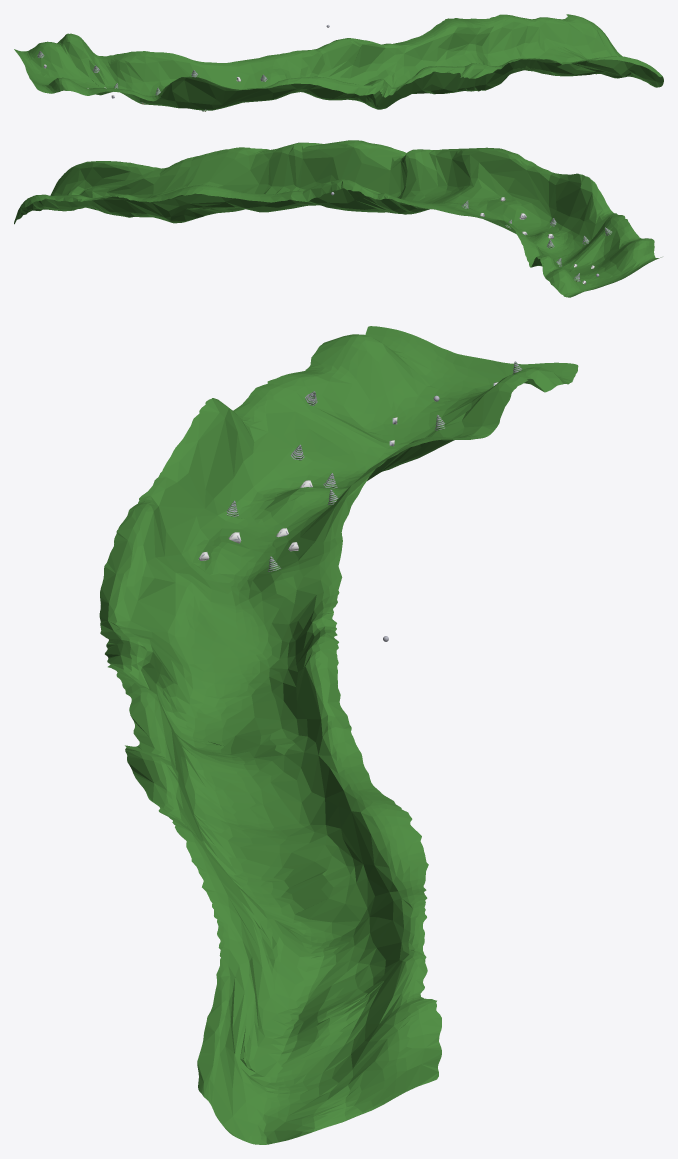
File: map1356.fbx
The picture shows the model from 3 angles, top to bottom: view 1: azimuth 30°, elevation 25°; view 2: azimuth 150°, elevation 25°; view 3: azimuth 270°, elevation 25°; orthographic projection. The views are drawn at different scales.
Parts seen in each view (by area): view 1: Plane.002; view 2: Plane.002; view 3: Plane.002.
Boxes of the visible parts, bbox=[...] form: Plane.002: bbox=[14, 14, 663, 111]; Plane.002: bbox=[14, 140, 661, 297]; Plane.002: bbox=[99, 326, 578, 1144].
Bounding box in the file's own units: 33012 × 7256 × 11494.
